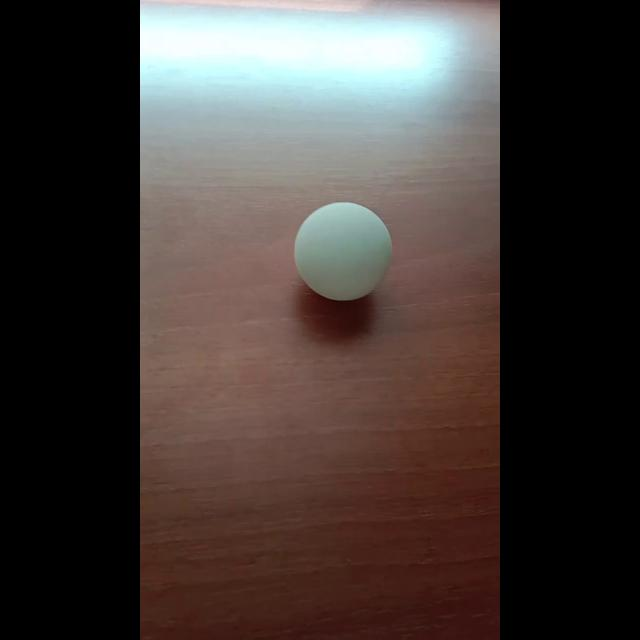white ball: (294, 200, 392, 302)
